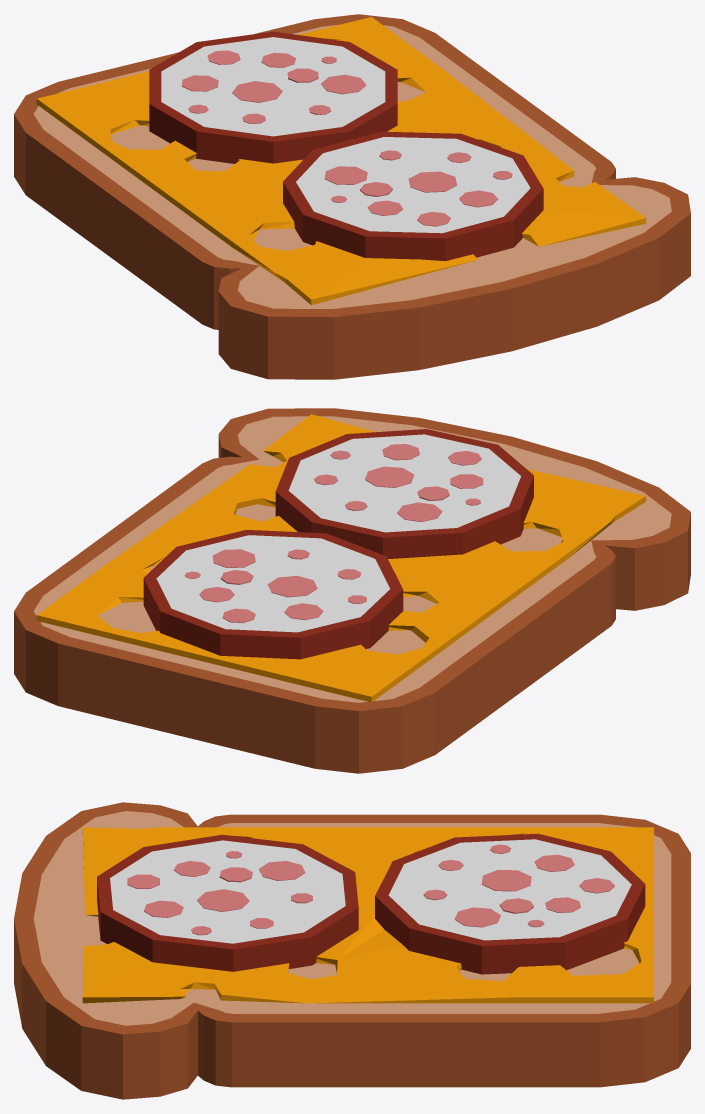
File: Sandwich.fbx
3 views of the same model, one above another, from view 1: azimuth 30°, elevation 25°; view 2: azimuth 150°, elevation 25°; view 3: azimuth 270°, elevation 25° (orthographic). The views are drawn at different scales.
Parts seen in each view (by area): view 1: Bread, Cheese, SausagePiece.001, SausagePiece; view 2: Bread, Cheese, SausagePiece, SausagePiece.001; view 3: Bread, Cheese, SausagePiece, SausagePiece.001.
Boxes of the visible parts, left/top/right/bottom form: Bread: left=14, top=14, right=690, bottom=379; Cheese: left=36, top=17, right=646, bottom=305; SausagePiece.001: left=283, top=131, right=543, bottom=261; SausagePiece: left=149, top=31, right=397, bottom=163; Bread: left=14, top=408, right=690, bottom=773; Cheese: left=36, top=414, right=646, bottom=702; SausagePiece: left=143, top=529, right=403, bottom=659; SausagePiece.001: left=275, top=429, right=533, bottom=558; Bread: left=14, top=802, right=690, bottom=1099; Cheese: left=82, top=827, right=653, bottom=1003; SausagePiece: left=375, top=833, right=645, bottom=974; SausagePiece.001: left=97, top=834, right=358, bottom=971.
Size of the model in its own units: 257 by 48.96 by 316.
